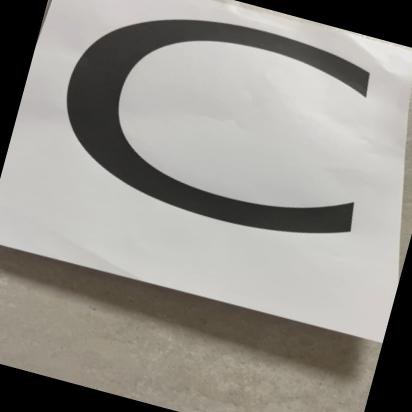seat: (0, 0, 412, 339)
